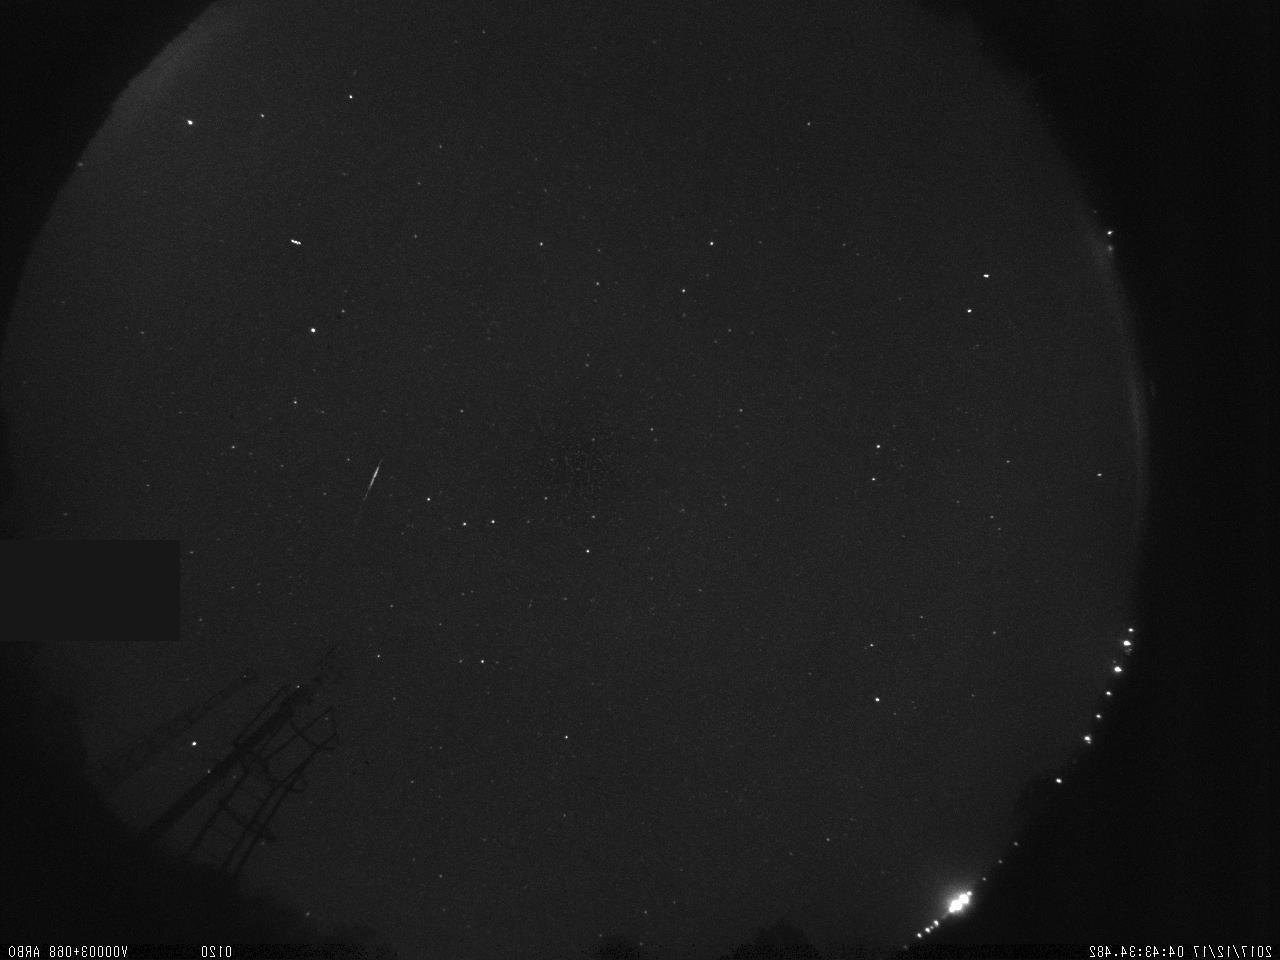meteor: (359, 449, 394, 501)
satelite: (280, 232, 307, 251)
